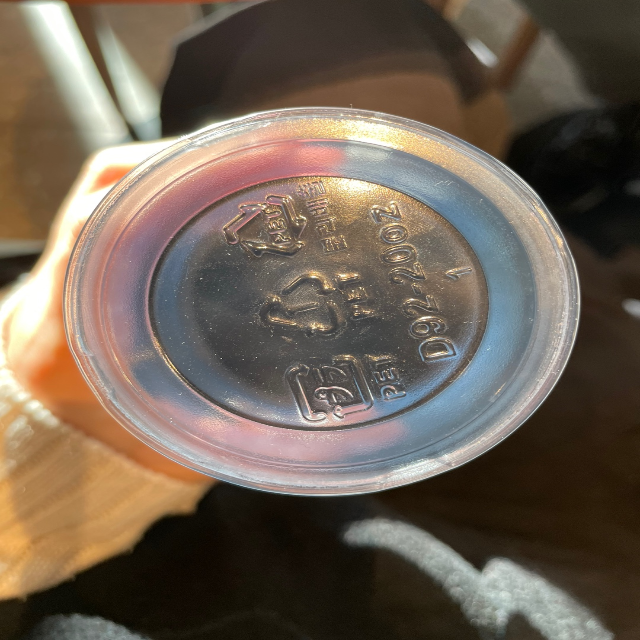pet: (216, 171, 351, 259), (275, 343, 412, 417), (250, 264, 379, 342)
